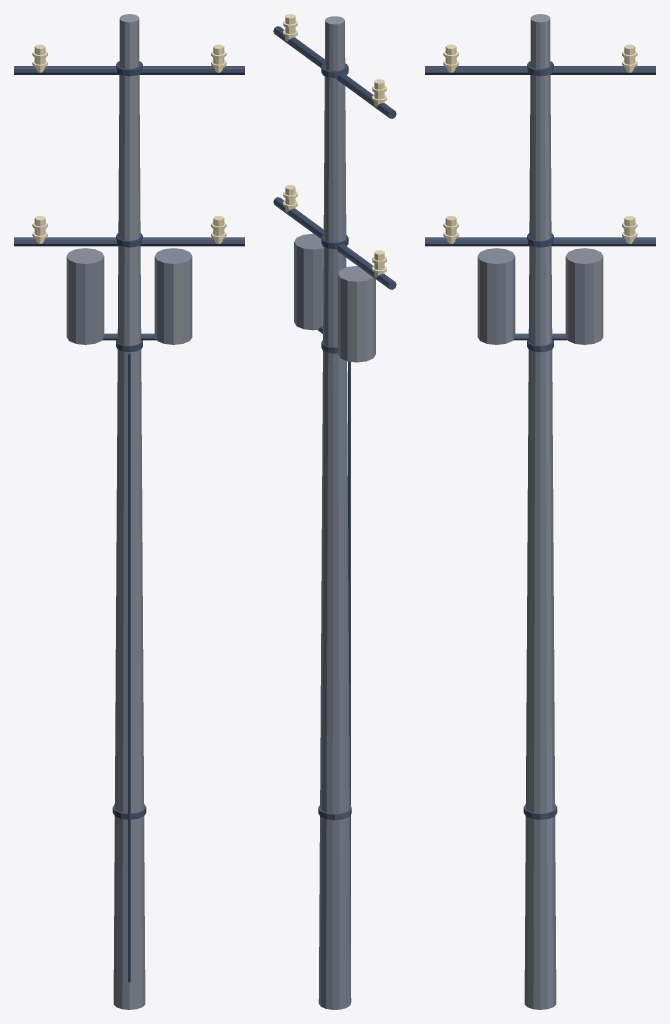
The model's file is ART_UtilityPole.lod.glb.
The picture shows the model from 3 angles, left to right: view 1: azimuth 90°, elevation 25°; view 2: azimuth 210°, elevation 25°; view 3: azimuth 270°, elevation 25°; orthographic projection.
Visible parts, largest first — view 1: ART_UtilityPole; view 2: ART_UtilityPole; view 3: ART_UtilityPole.
Part boxes in pixels (box(x1,y1,x2,y2)): ART_UtilityPole: box(14, 14, 244, 1009); ART_UtilityPole: box(273, 14, 396, 1009); ART_UtilityPole: box(425, 14, 655, 1009).
Size of the model in its own units: 0.36 by 10.35 by 2.2.
